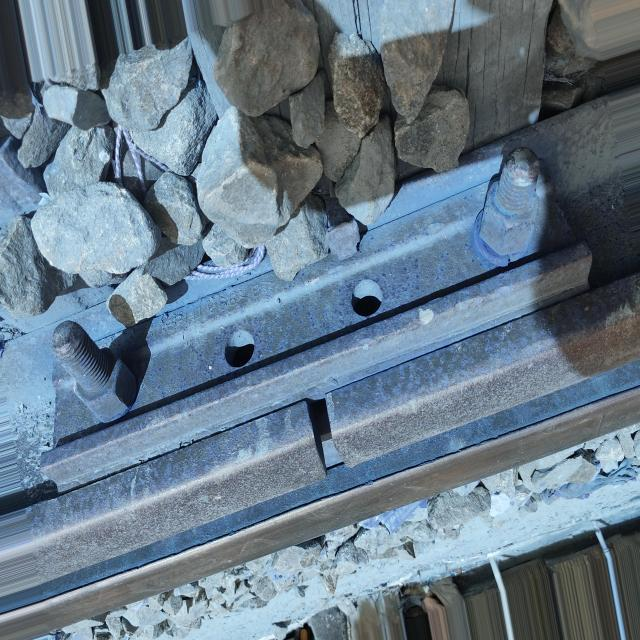Defective Joint: (48, 151, 591, 498)
